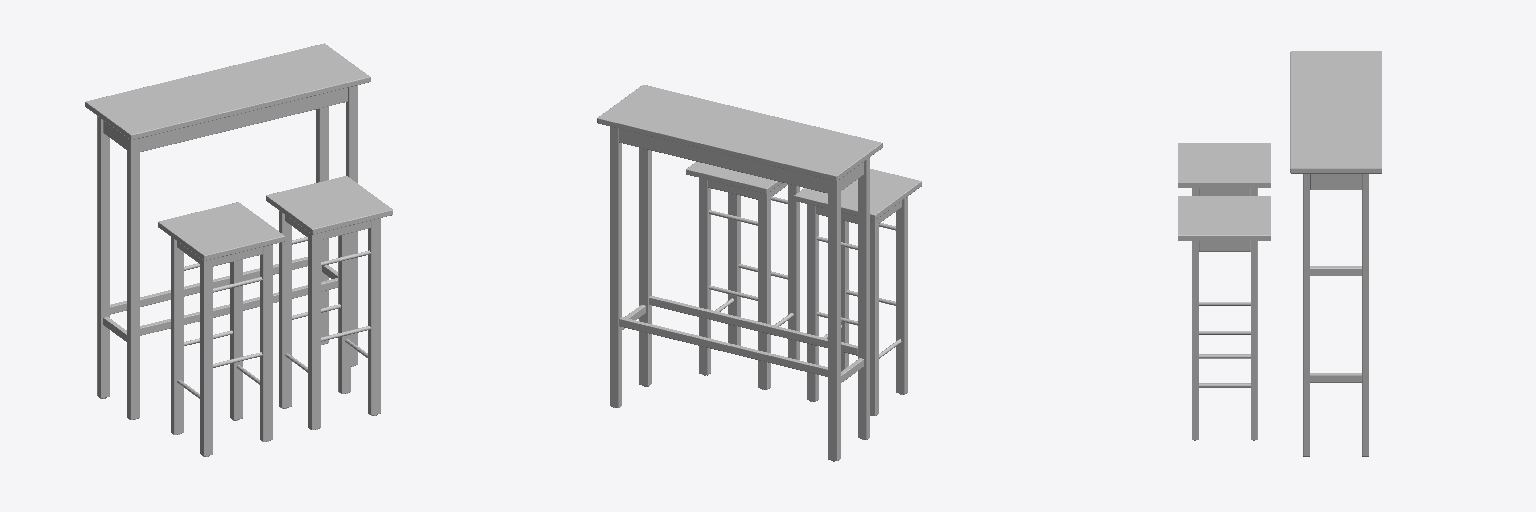
File: B07N4G81CJ_A1RKKUPIHCS9HS.obj
The picture shows the model from 3 angles: view 1: azimuth 30°, elevation 25°; view 2: azimuth 150°, elevation 25°; view 3: azimuth 270°, elevation 25°; orthographic projection.
Parts seen in each view (by area): view 1: RootNode_RootMesh.3509; view 2: RootNode_RootMesh.3509; view 3: RootNode_RootMesh.3509.
Boxes of the visible parts, box(x1,y1,x2,y2) form: RootNode_RootMesh.3509: box(85, 43, 392, 456); RootNode_RootMesh.3509: box(597, 85, 921, 461); RootNode_RootMesh.3509: box(1178, 51, 1381, 456).
Bounding box in the file's own units: 0.9145 × 1.07 × 0.6765.